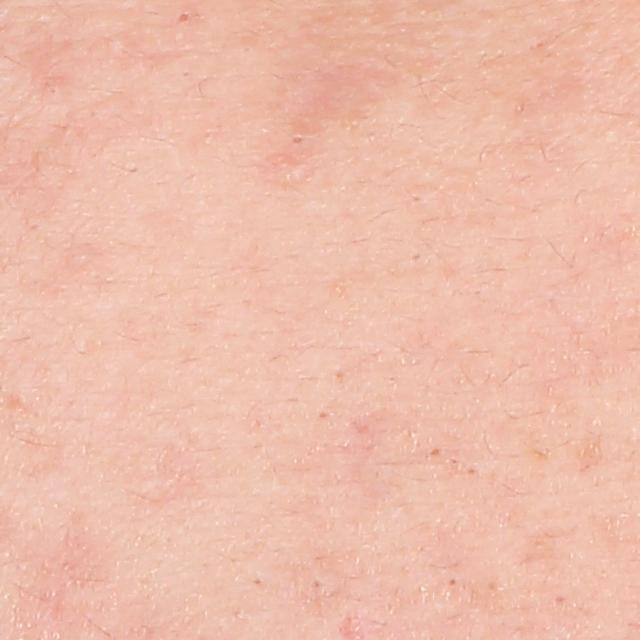comedo: (289, 132, 307, 146), (429, 446, 443, 459), (176, 12, 190, 24), (445, 577, 457, 588)
